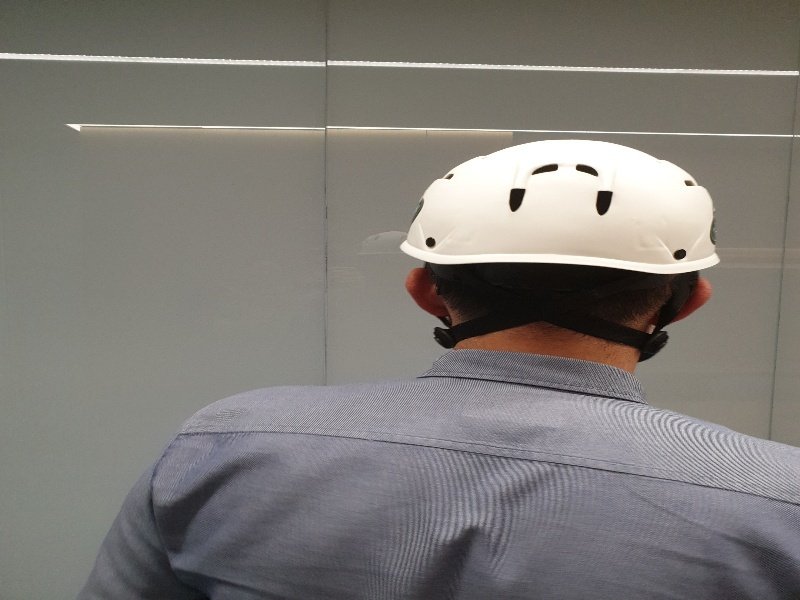Baret: (400, 140, 721, 294)
